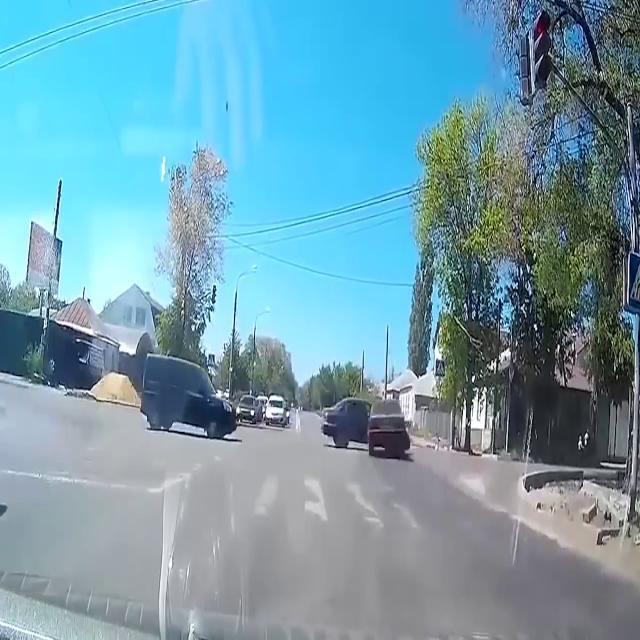accident: (319, 396, 411, 459)
non-accident: (138, 350, 292, 440), (236, 392, 292, 430)
